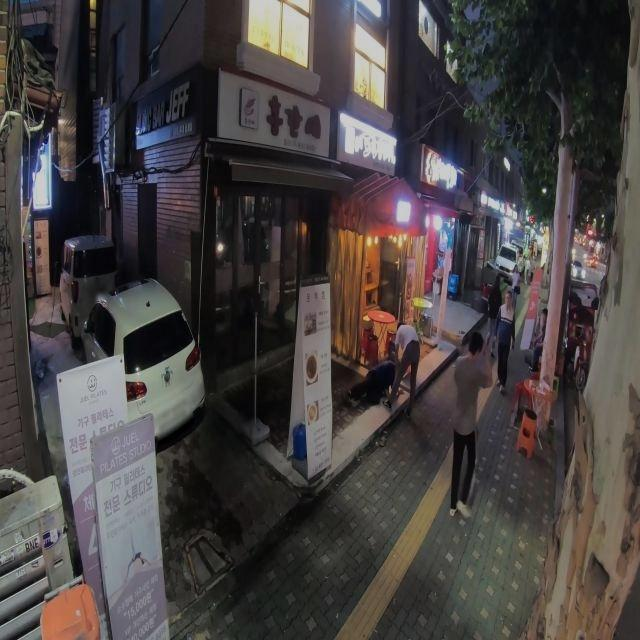fight: (344, 314, 418, 406)
non-fight: (443, 328, 487, 520)
